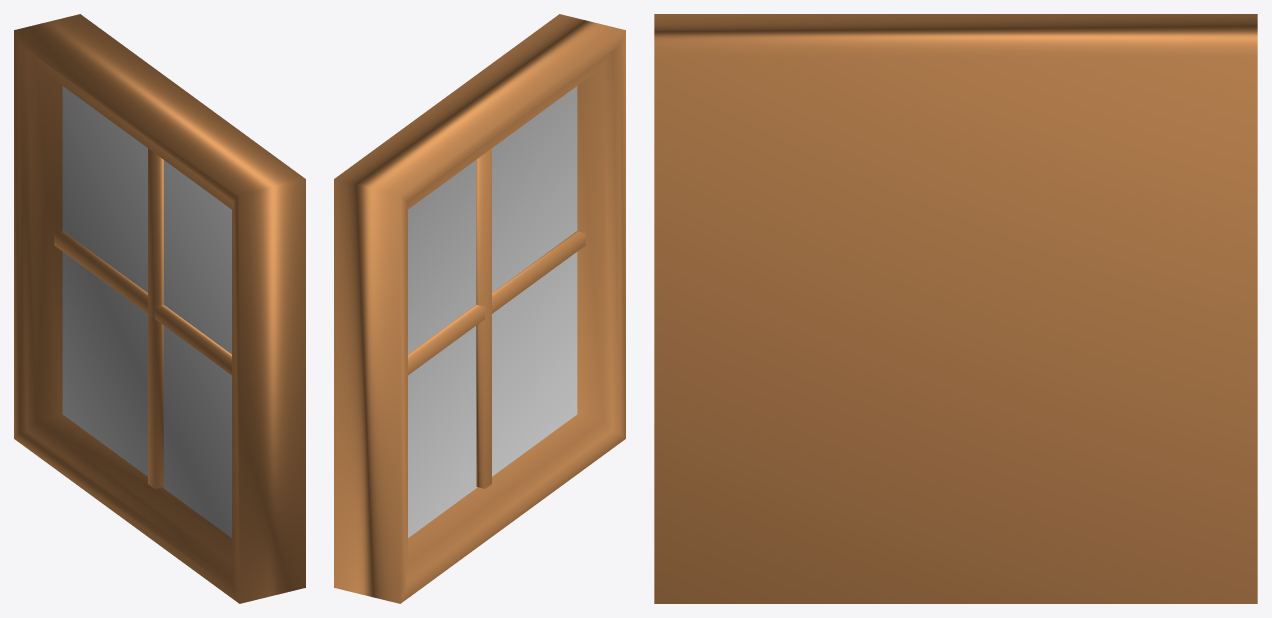
File: Window.fbx
3 renders of one model, left to right at view 1: azimuth 30°, elevation 25°; view 2: azimuth 150°, elevation 25°; view 3: azimuth 270°, elevation 25°, orthographic. The views are drawn at different scales.
Parts seen in each view (by area): view 1: Window; view 2: Window; view 3: Window.
Boxes of the visible parts, left/top/right/bottom form: Window: left=14, top=14, right=305, bottom=603; Window: left=334, top=14, right=625, bottom=603; Window: left=654, top=14, right=1257, bottom=603.
Bounding box in the file's own units: 0.1697 × 1 × 1.
